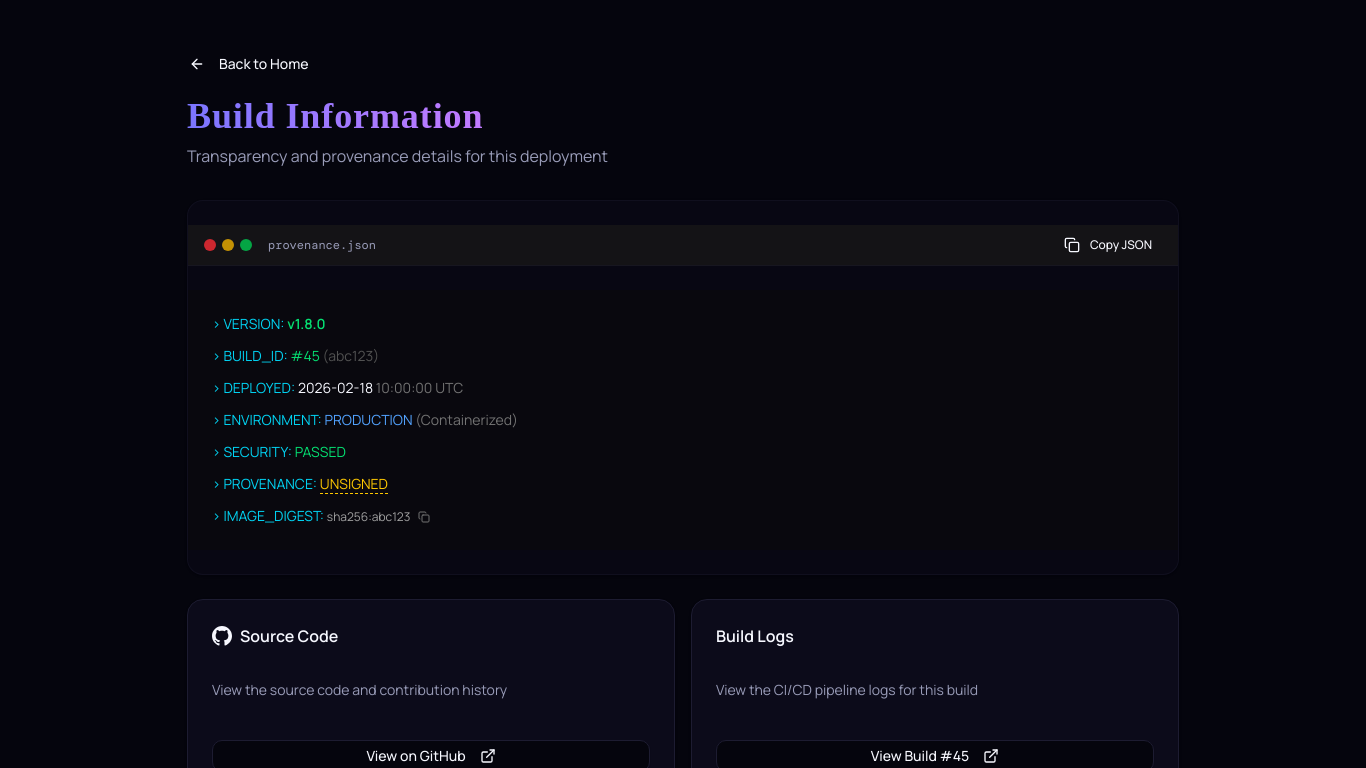
it: BuildInfoPage › Copy to Clipboard › should copy JSON to clipboard when Copy JSON button is clicked
The width and height of the screenshot is (1366, 768).
Expected: the text "v1.8.0" is shown, [287,314,326,333]
Click the button "Copy JSON": {"x": 1108, "y": 245} [1054,233,1162,257]
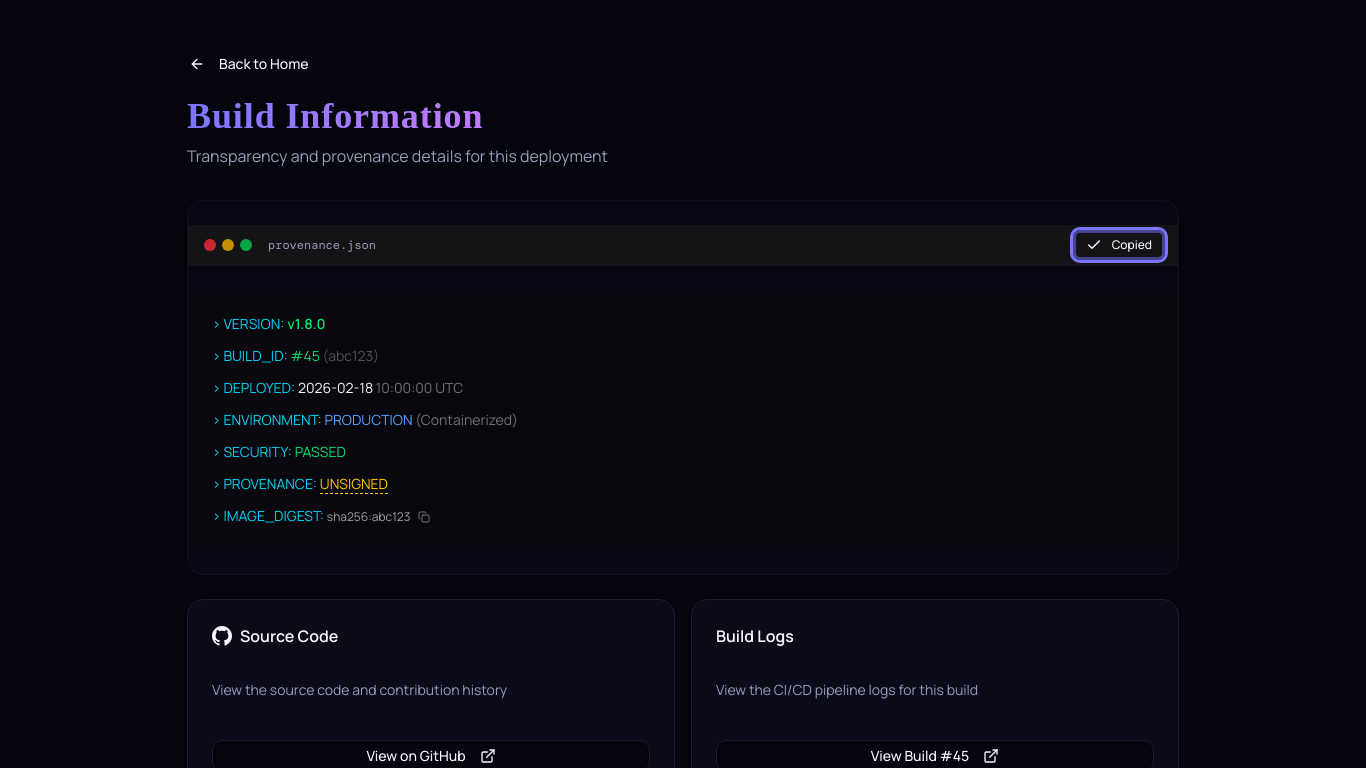
Expected: the button "Copied" is shown, [1076,233,1162,257]
